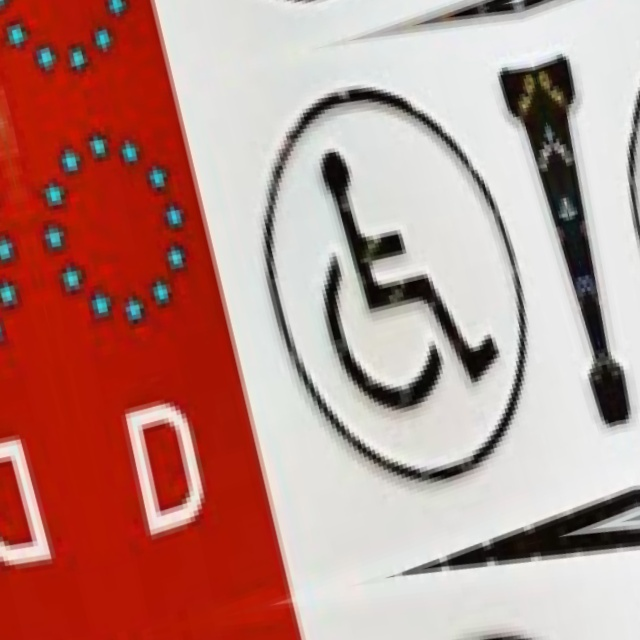ISA: (283, 118, 507, 427), (637, 34, 640, 343)
